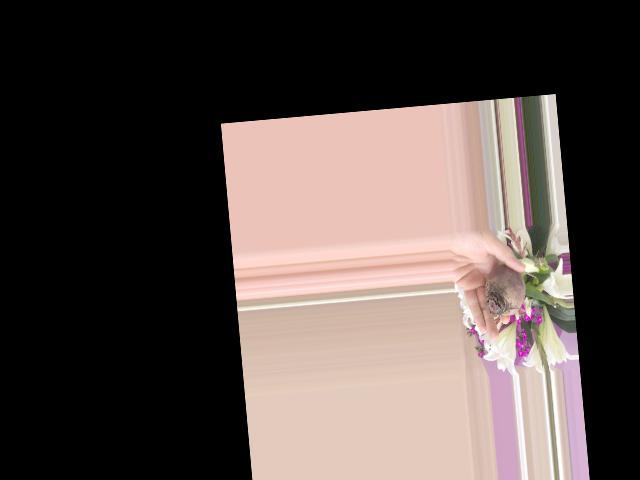beet: (482, 261, 539, 317)
